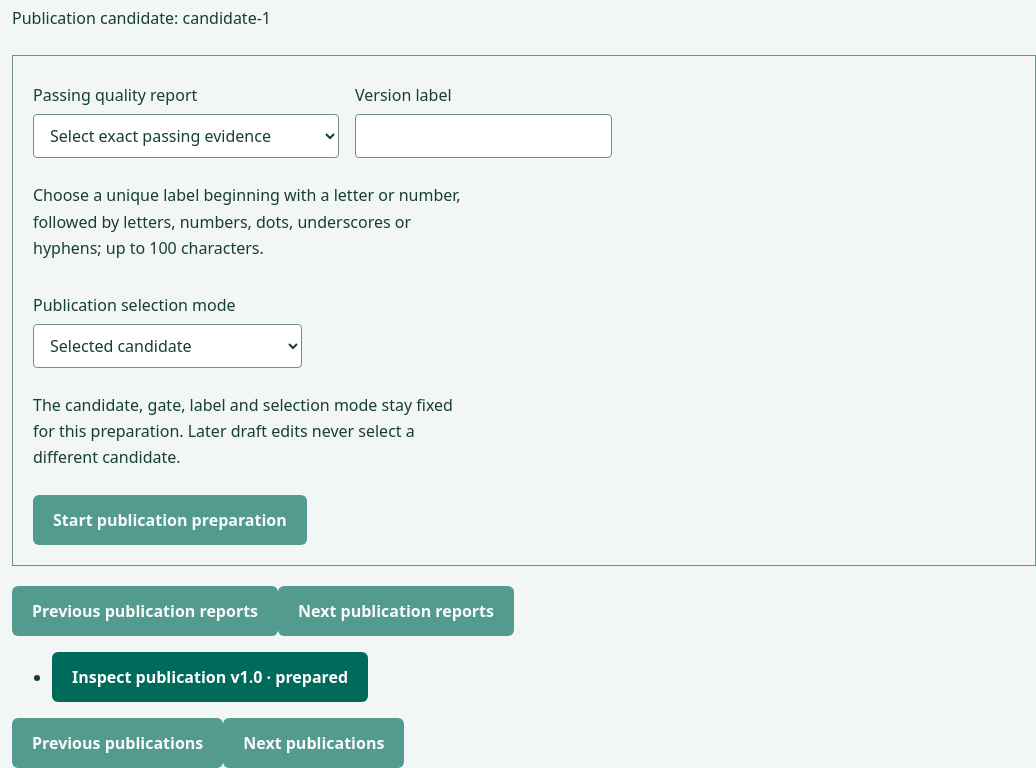
Test: immutable dataset publication › renews expired protection with zero checked sources and releases abandoned protection in batches
The image size is (1036, 768).
(page scrolled)
Click the button "Inspect publication v1.0 · prepared".
click(210, 677)  # box left=52, top=652, right=368, bottom=702
(page scrolled)
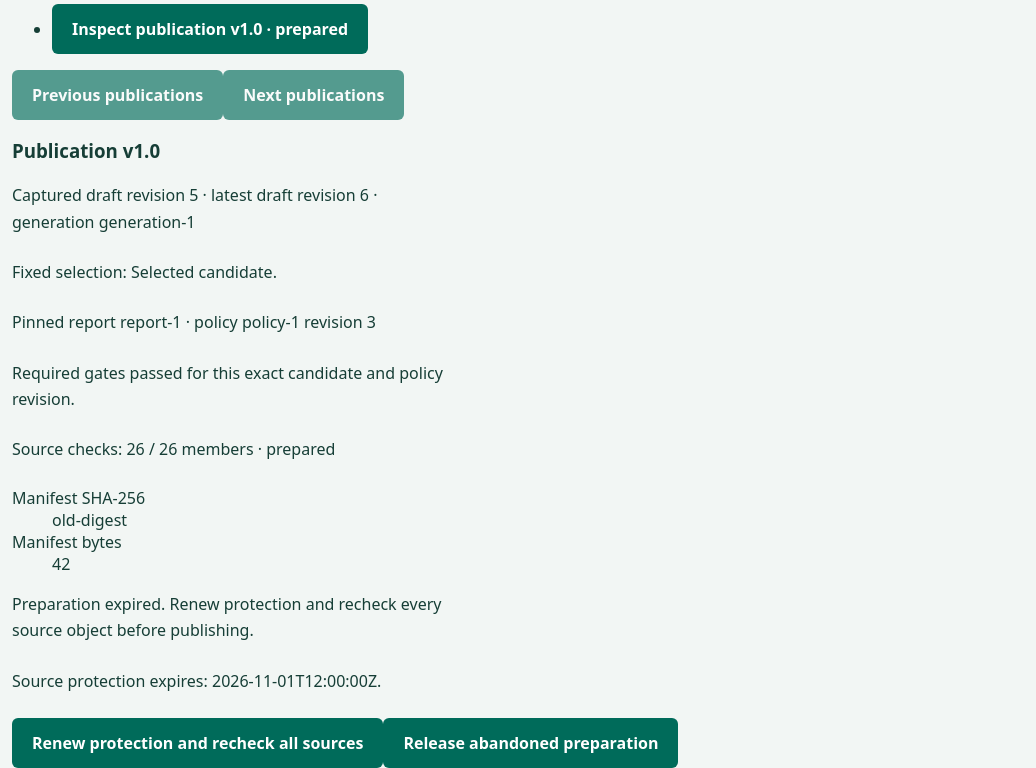
Expected: the text "Required gates passed for this exact candidate and policy revision." is shown, left=12, top=360, right=451, bottom=412
Click the button "Renew protection and recheck all sources".
click(198, 743)  # box left=12, top=718, right=383, bottom=767
(page scrolled)
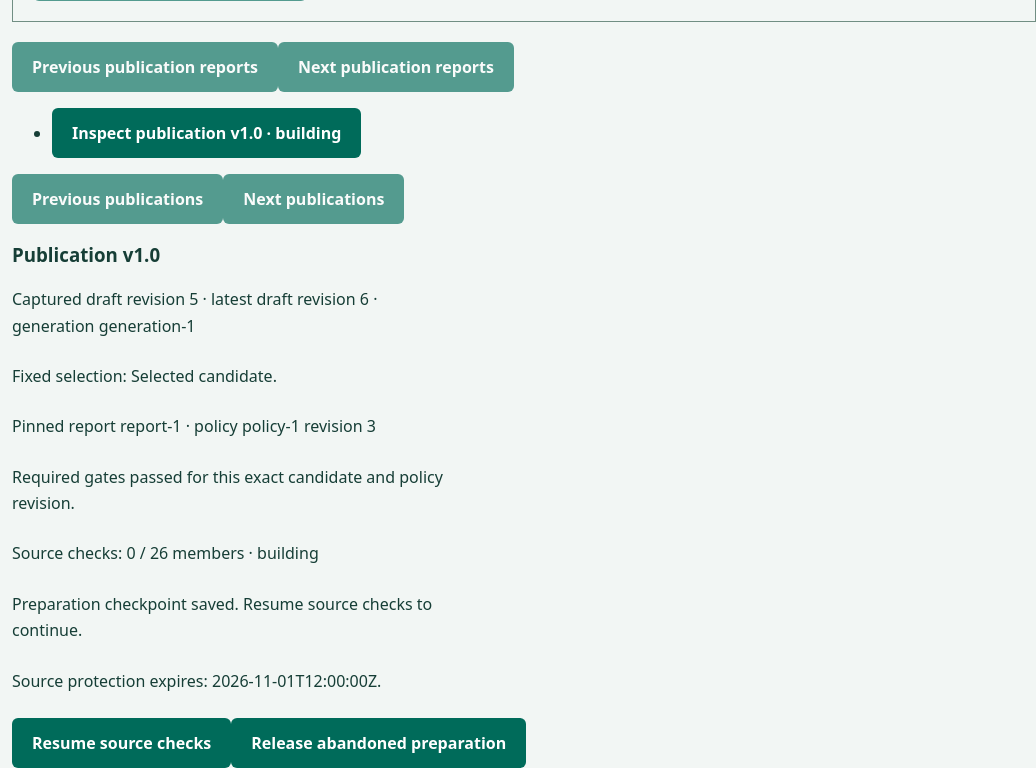
Expected: the text "Source checks: 0 / 26 members · building" is shown, left=12, top=542, right=319, bottom=564
Expected: the text "old-digest" is gone
Click the button "Release abandoned preparation".
click(379, 743)  # box left=231, top=718, right=526, bottom=767
(page scrolled)
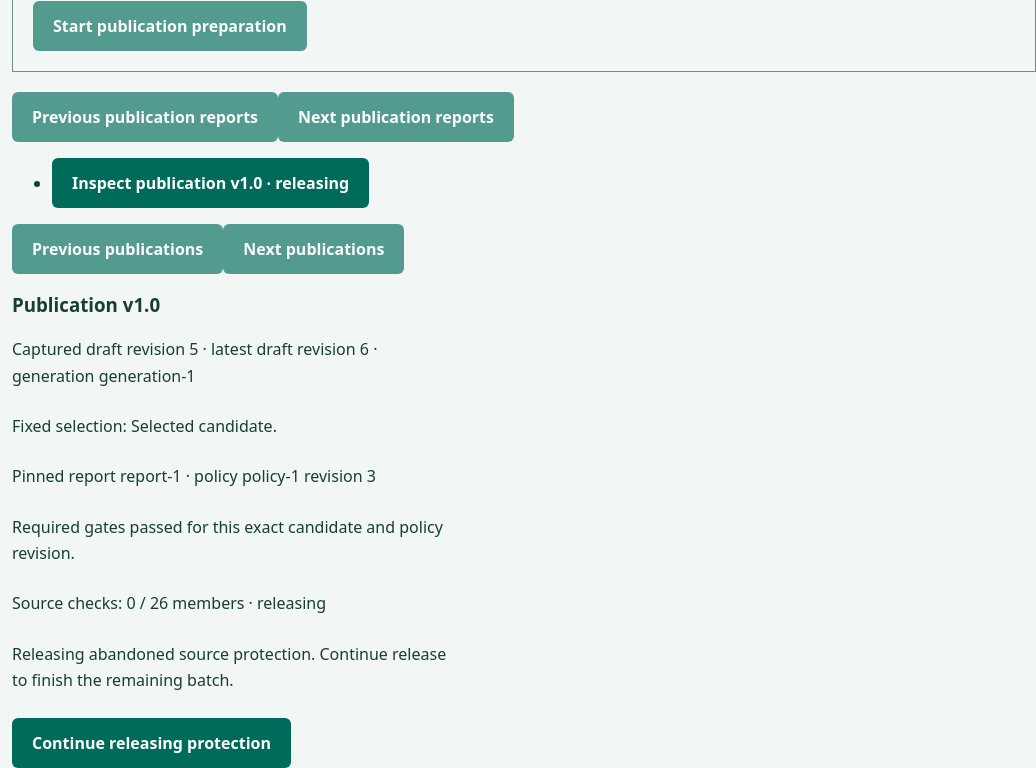
Click the button "Continue releasing protection".
click(152, 743)  # box left=12, top=718, right=291, bottom=767
(page scrolled)
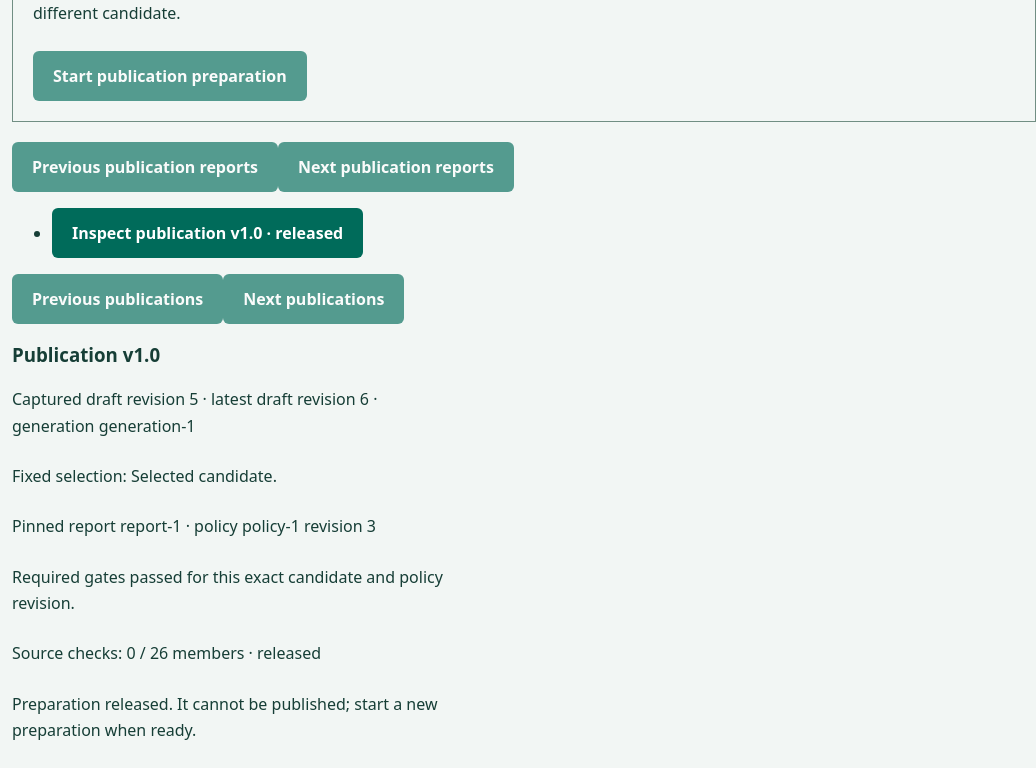
Expected: the text "Preparation released. It cannot be published; start a new preparation when ready." is shown, left=12, top=693, right=438, bottom=741
